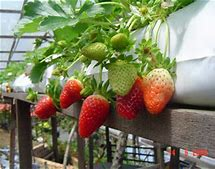Fresa: (78, 91, 111, 139), (115, 75, 147, 122), (60, 75, 85, 110), (34, 94, 59, 119)
